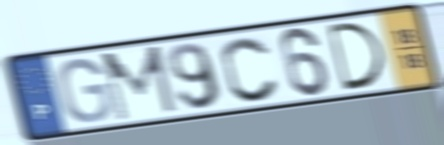6: (279, 25, 331, 99)
9: (166, 41, 223, 112)
C: (219, 34, 282, 104)
D: (323, 19, 388, 94)
G: (55, 55, 115, 125)
M: (98, 42, 180, 124)
